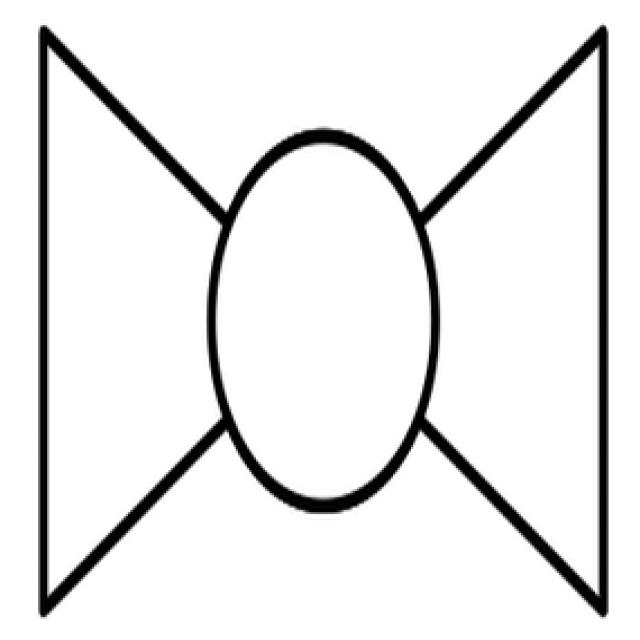ball valve: (39, 26, 604, 619)
